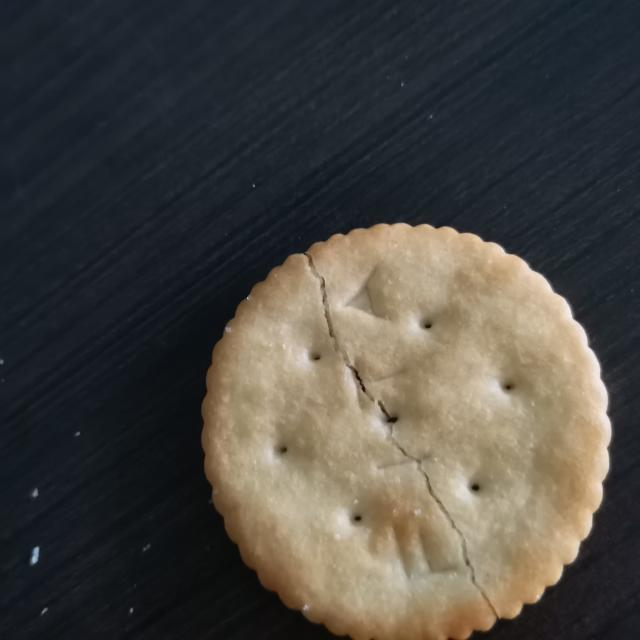Fracture: (285, 242, 535, 628)
